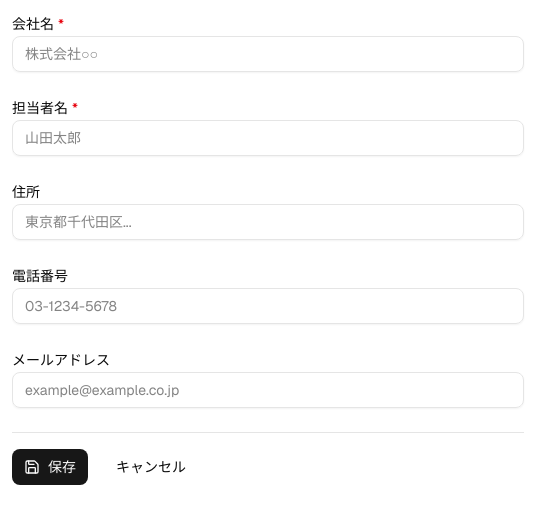
Test case: CustomerForm › 不正な電話番号形式でバリデーションエラーが表示される
This screenshot has width=542, height=526.
Type "テスト株式会社" into the field labelled "会社名*". click: (268, 54)
box: 12,36 -> 524,72
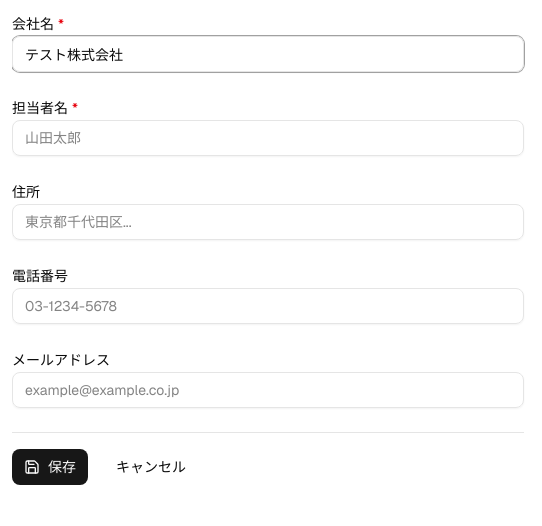
Type "佐藤" into the field labelled "担当者名*". click: (268, 138)
box: 12,120 -> 524,156
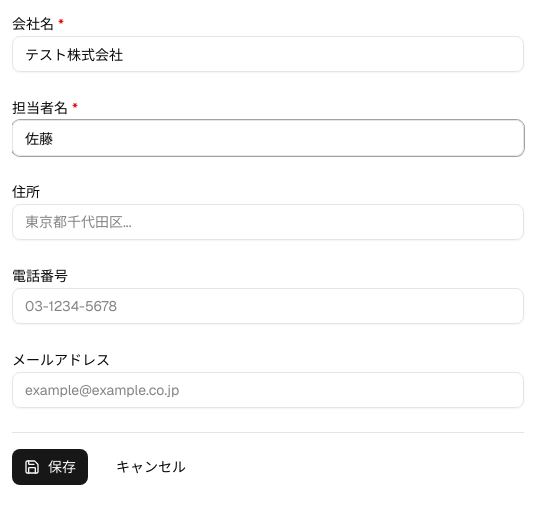
Type "abc" into the field labelled "電話番号". click: (268, 306)
box: 12,288 -> 524,324
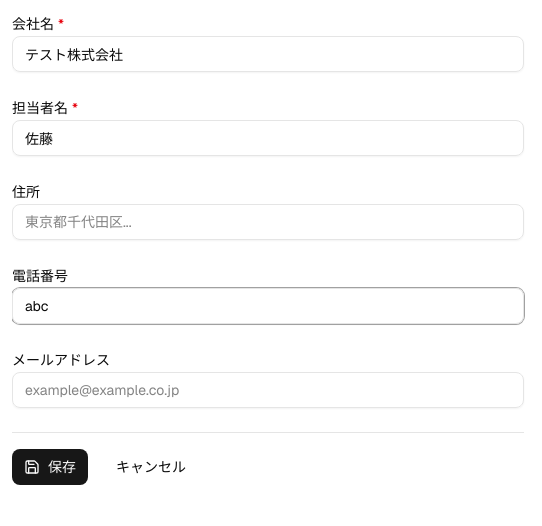
Click the button "保存". click: (50, 467)
box: 12,449 -> 88,485
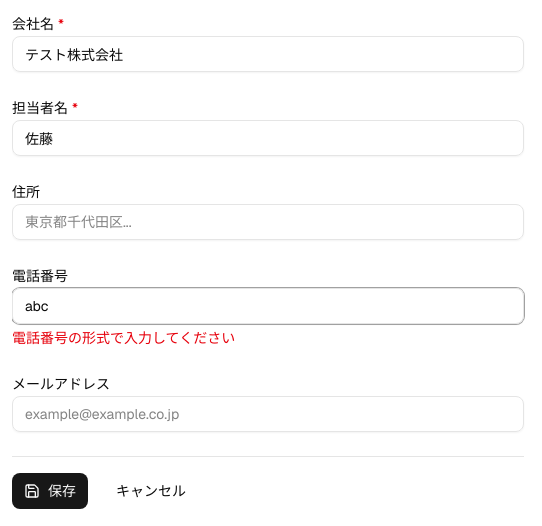
Expected: the text "電話番号の形式で入力してください" is shown, 12,329 -> 235,347
